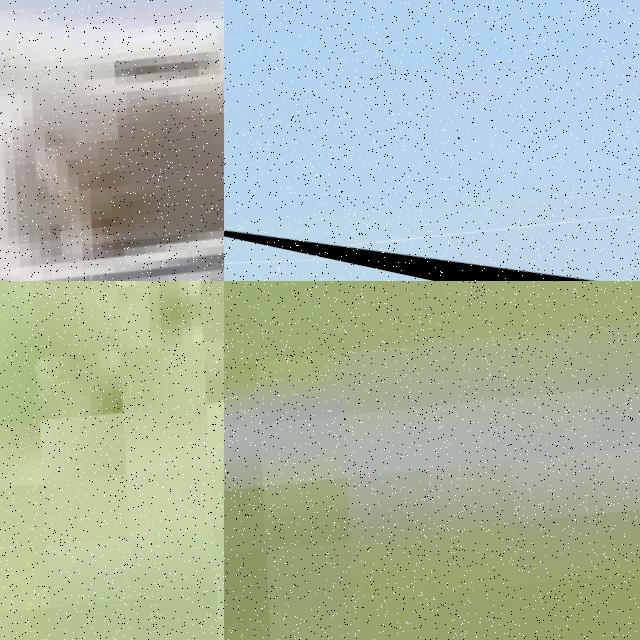0: (224, 281, 640, 640), (224, 0, 640, 281), (0, 281, 224, 640)
drone: (0, 0, 224, 281)
